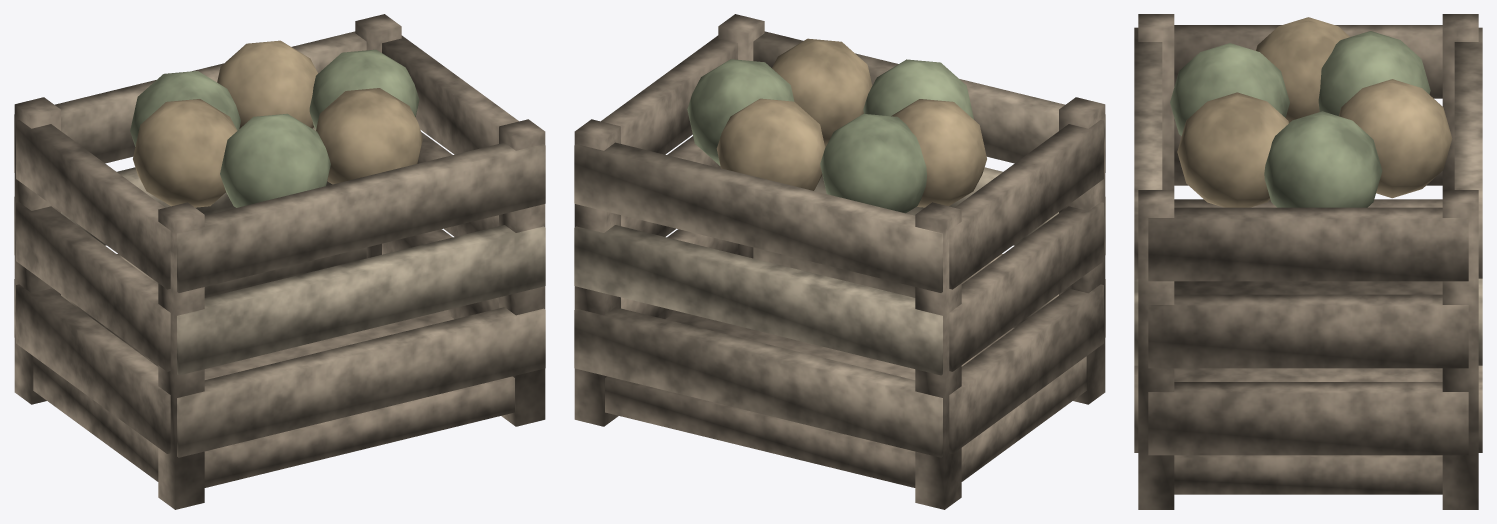
The model's file is prop_peti_sayur.obj.
3 renders of one model, left to right at view 1: azimuth 30°, elevation 25°; view 2: azimuth 150°, elevation 25°; view 3: azimuth 270°, elevation 25°, orthographic. The views are drawn at different scales.
Visible parts, largest first — view 1: prop_peti_sayur; view 2: prop_peti_sayur; view 3: prop_peti_sayur.
Boxes of the visible parts, x1,y1,x2,y2 form: prop_peti_sayur: [14, 14, 545, 509]; prop_peti_sayur: [574, 14, 1105, 509]; prop_peti_sayur: [1134, 14, 1482, 509].
Bounding box in the file's own units: 0.575 × 0.475 × 0.435.
Materials: 1 (1 with a texture image).
